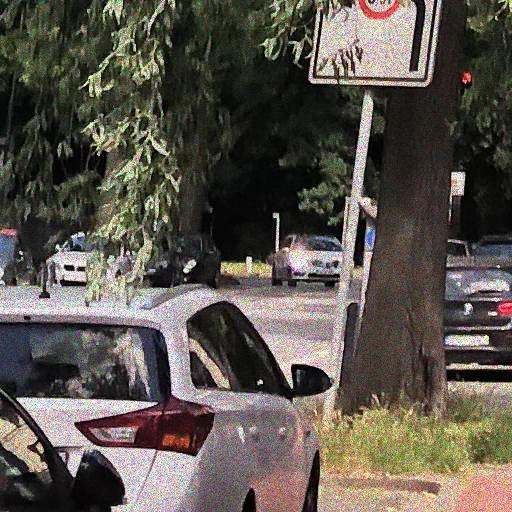tree: (79, 1, 511, 421), (92, 51, 150, 252), (174, 66, 223, 231)
